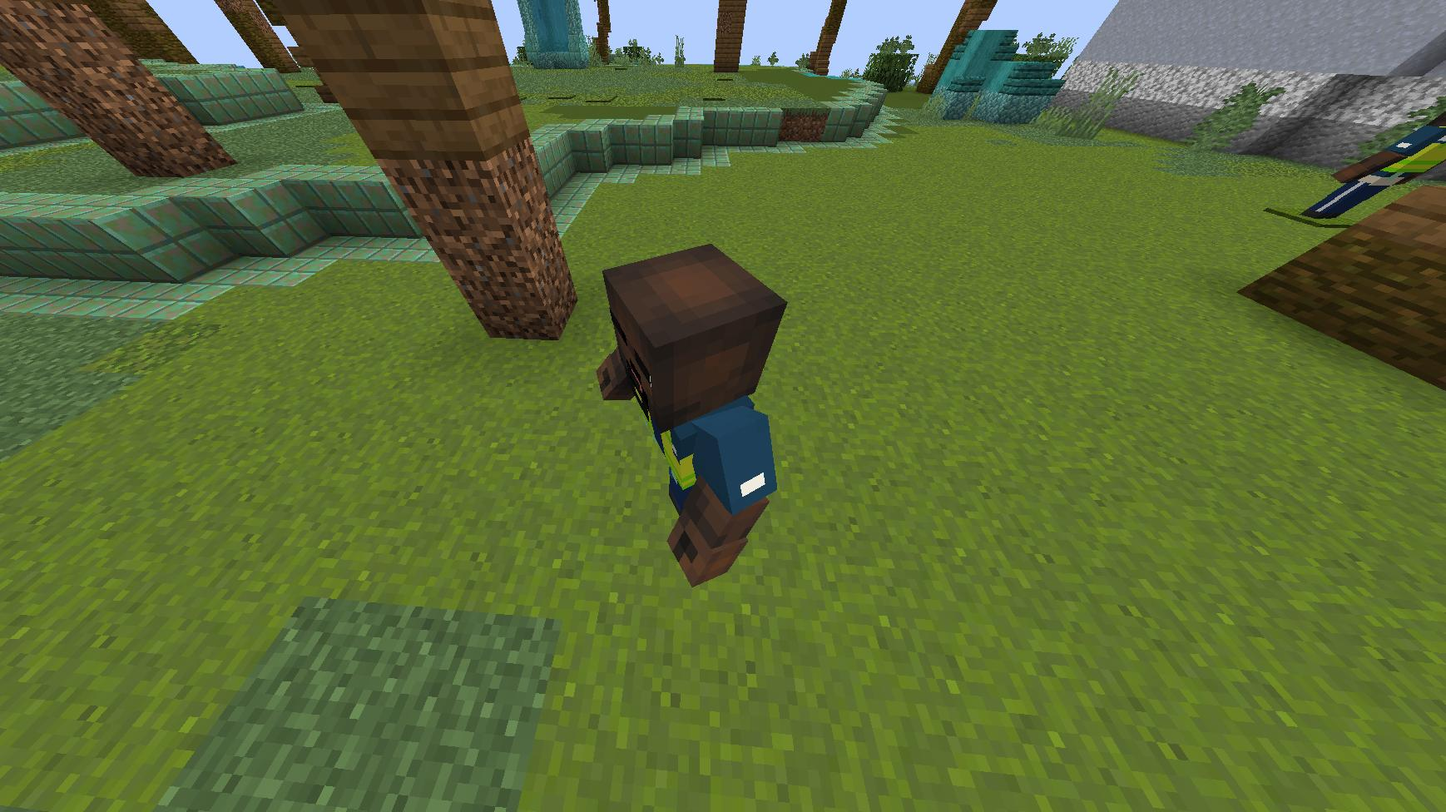Guardian: (597, 245, 785, 586)
